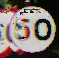Speed limit: (8, 0, 54, 54)
